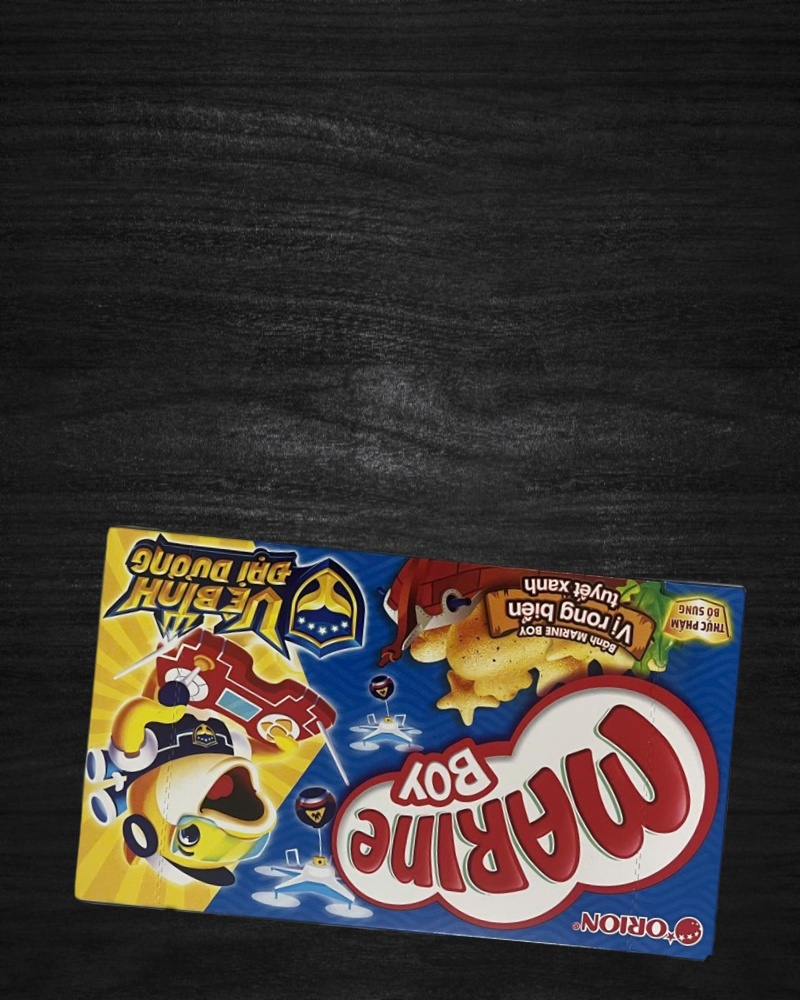Marine: (72, 525, 748, 962)
